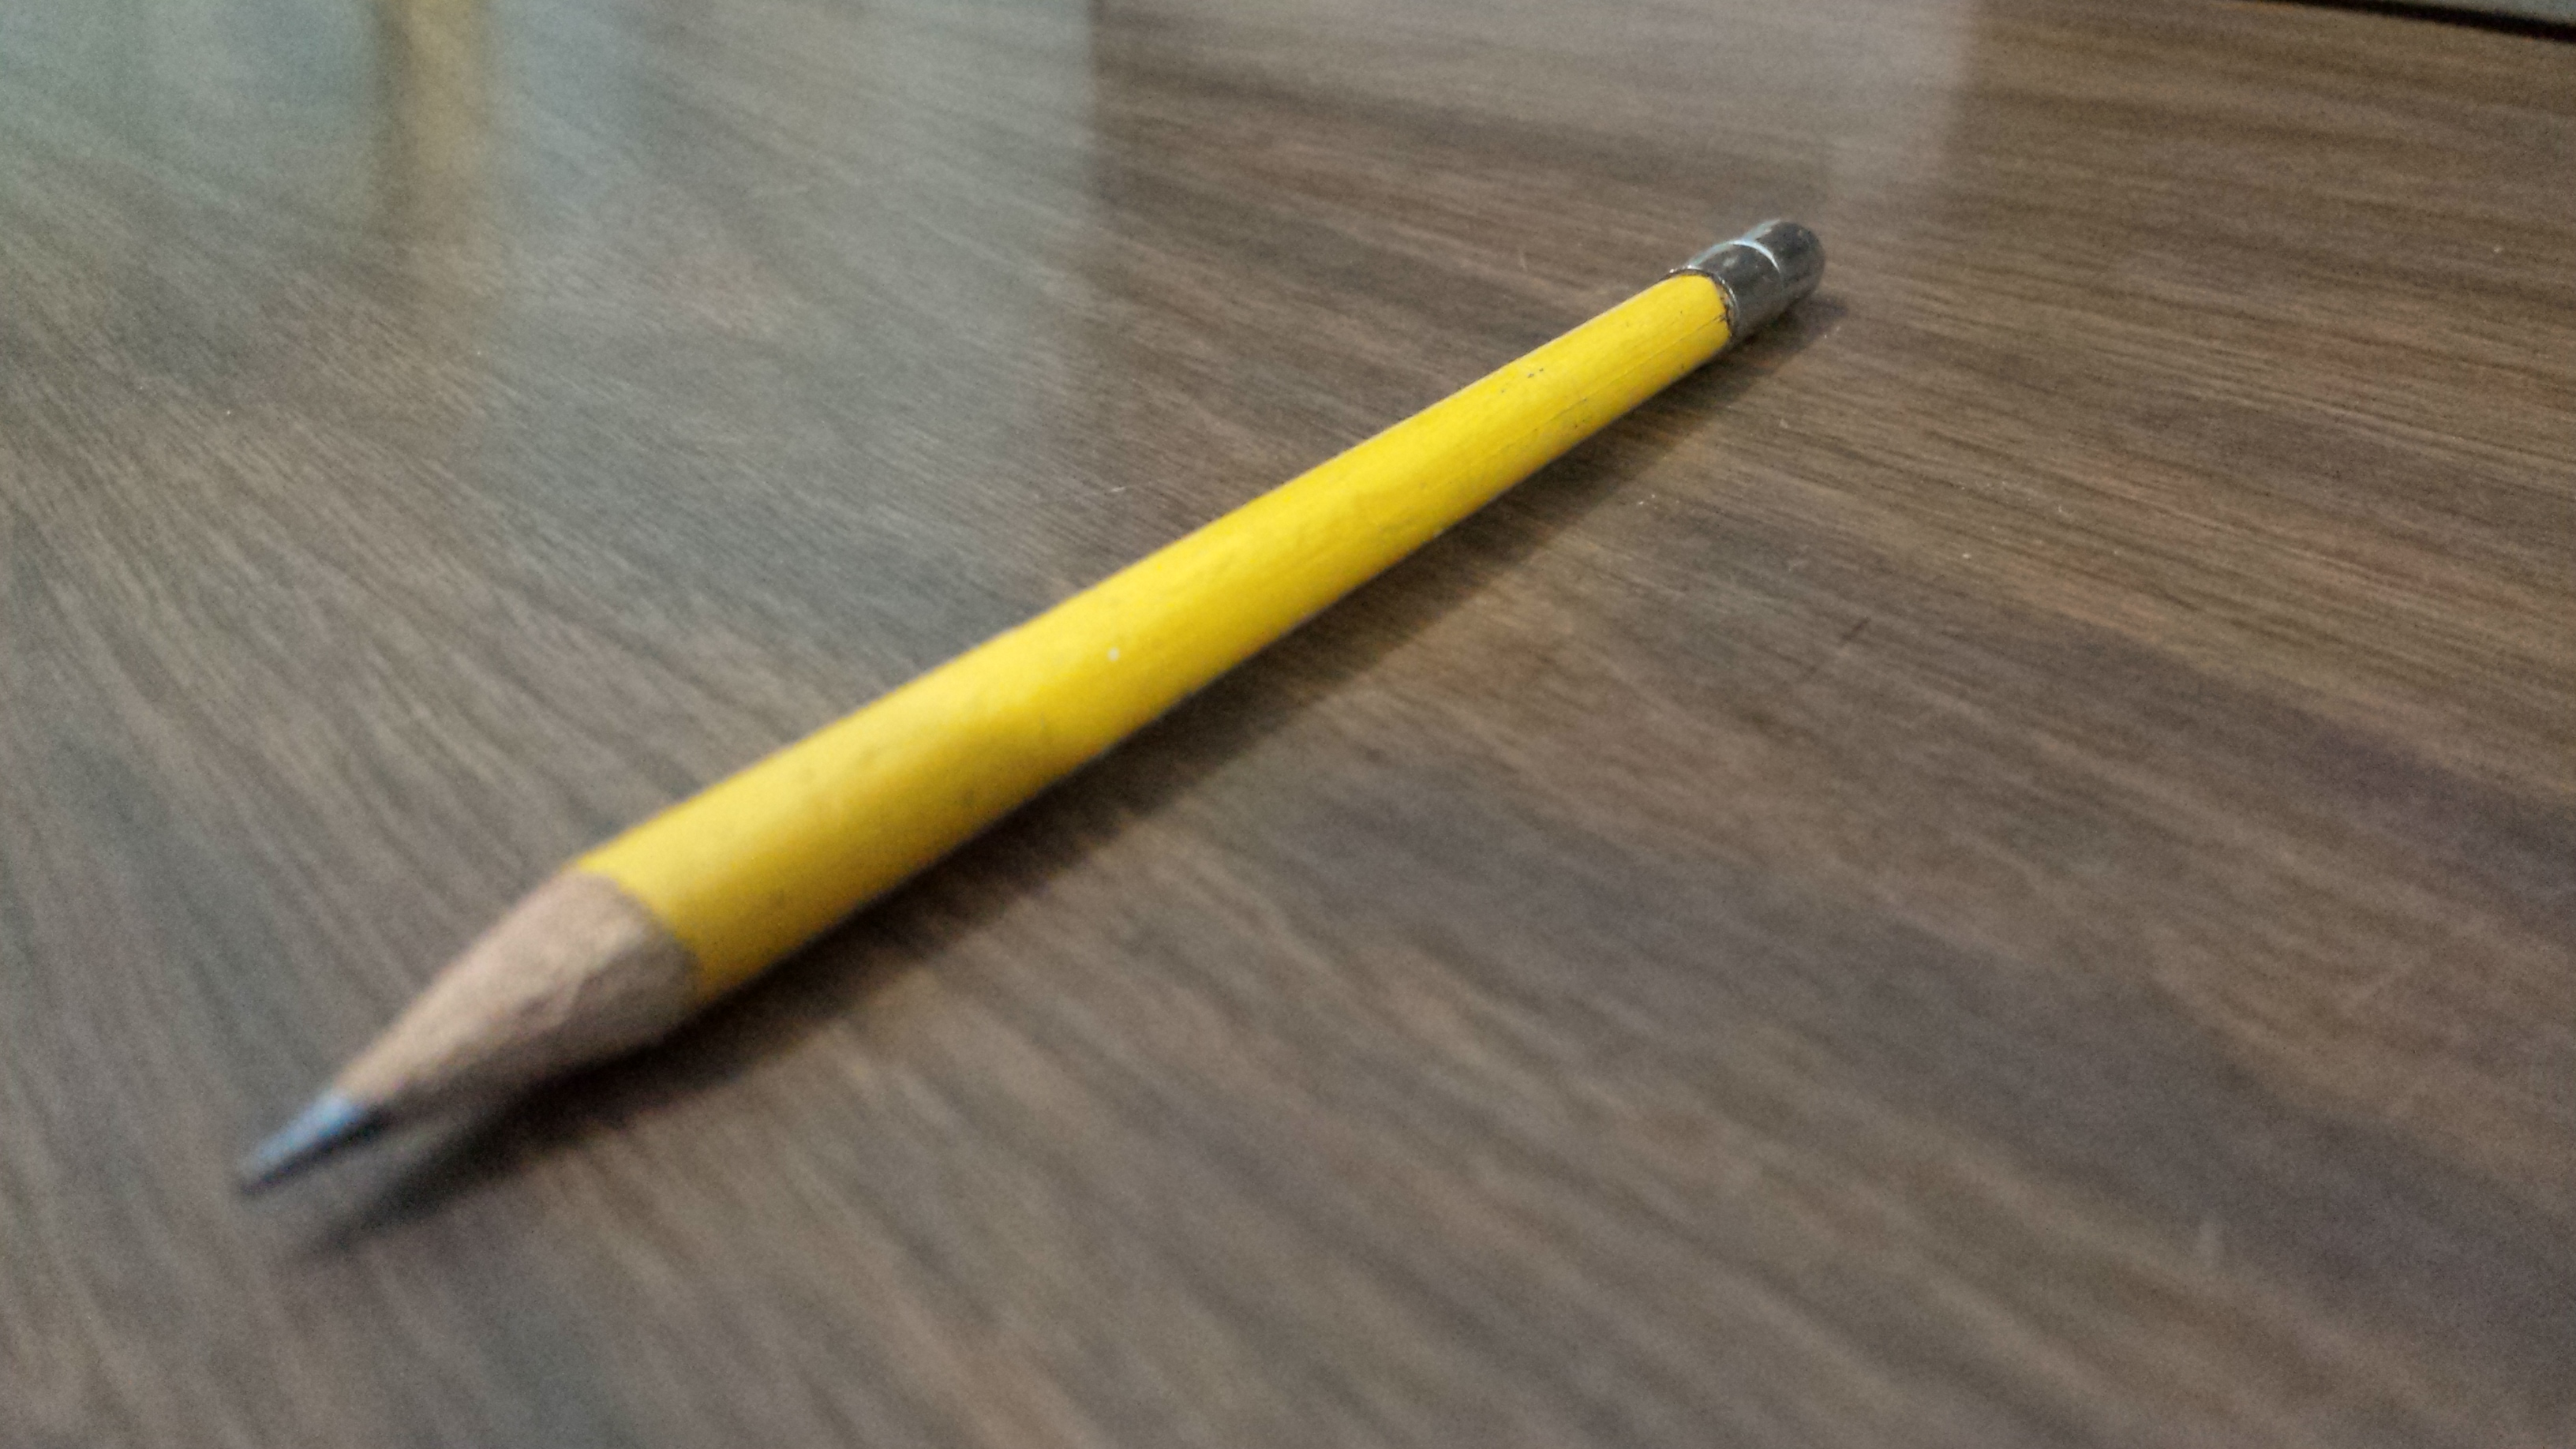pen_tip: (179, 830, 791, 1214)
